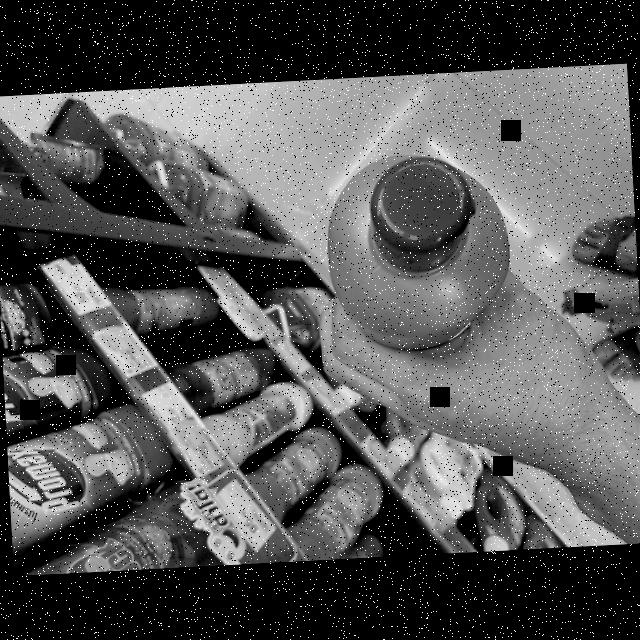chemical_plastic_bottle: (313, 144, 519, 372)
